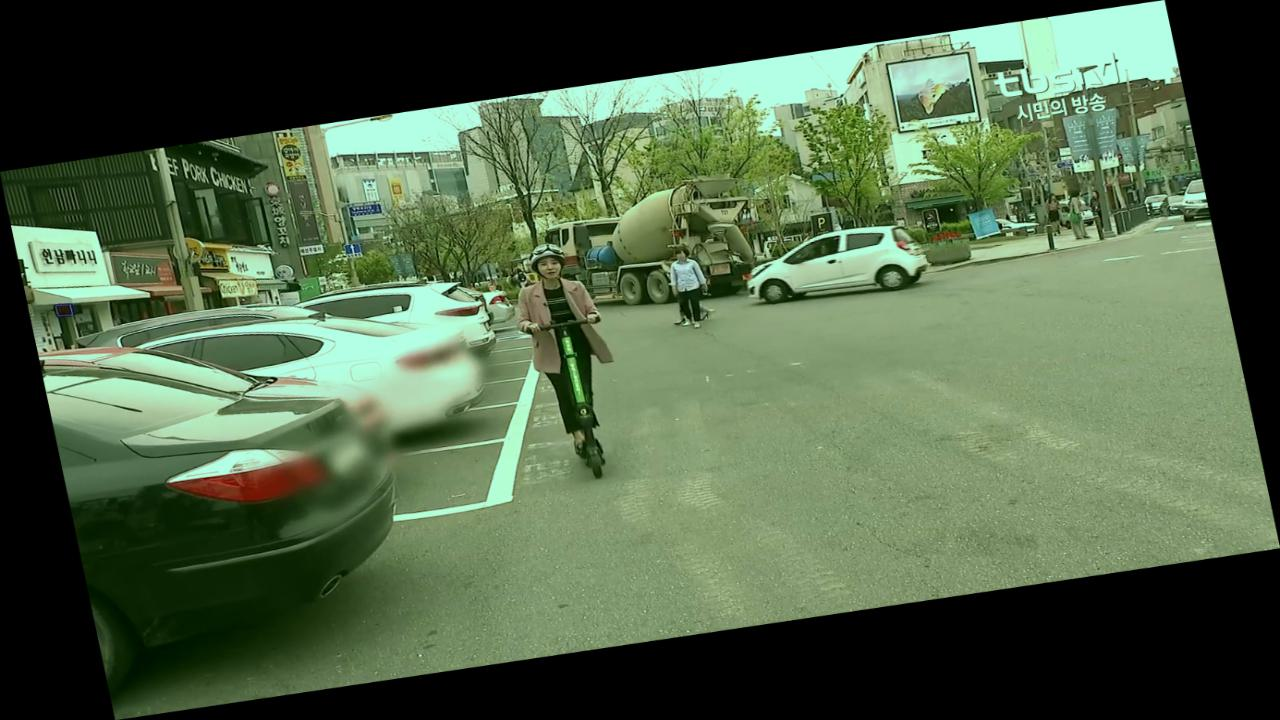helmet: (498, 233, 645, 488)
